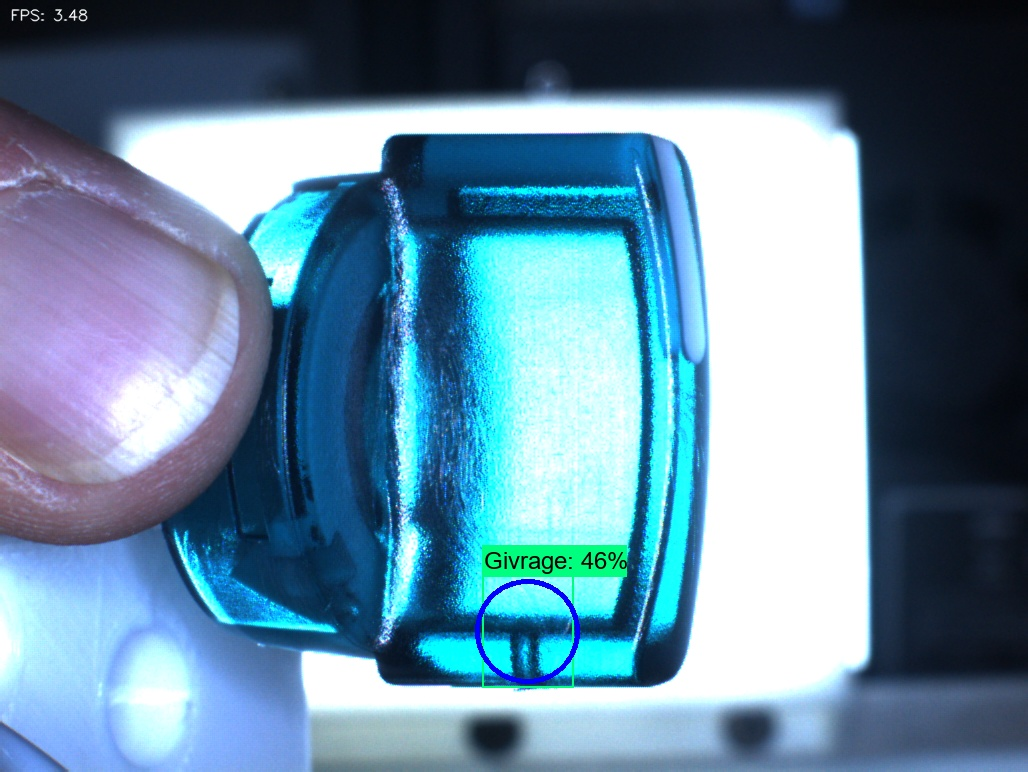Bulle: (488, 607, 570, 707)
